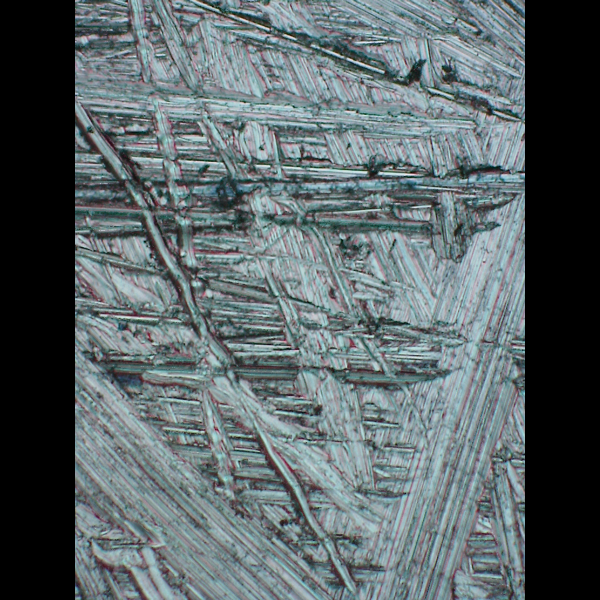d: (76, 0, 524, 598)
